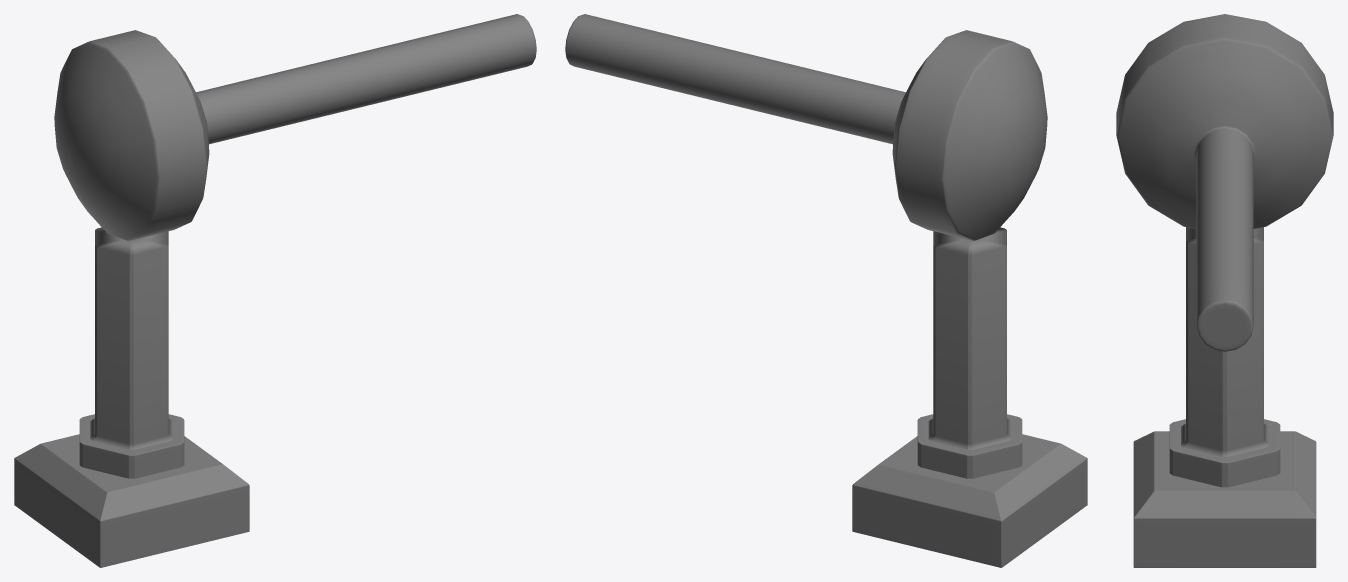
File: turret03.fbx
3 views of the same model, side by side, from view 1: azimuth 30°, elevation 25°; view 2: azimuth 150°, elevation 25°; view 3: azimuth 270°, elevation 25° (orthographic). The views are drawn at different scales.
Visible parts, largest first — view 1: OilTank001, Box001, Object001, Gengon001; view 2: OilTank001, Box001, Object001, Gengon001; view 3: OilTank001, Box001, Object001, Gengon001.
Boxes of the visible parts, left/top/right/bottom form: OilTank001: left=54, top=14, right=536, bottom=240; Box001: left=14, top=434, right=249, bottom=567; Object001: left=90, top=227, right=173, bottom=449; Gengon001: left=79, top=414, right=184, bottom=478; OilTank001: left=565, top=14, right=1047, bottom=240; Box001: left=852, top=434, right=1087, bottom=567; Object001: left=928, top=227, right=1011, bottom=449; Gengon001: left=917, top=414, right=1022, bottom=478; OilTank001: left=1116, top=14, right=1333, bottom=351; Box001: left=1133, top=431, right=1316, bottom=567; Object001: left=1181, top=227, right=1268, bottom=456; Gengon001: left=1169, top=419, right=1280, bottom=487.
Size of the model in its own units: 312 by 304 by 119.
